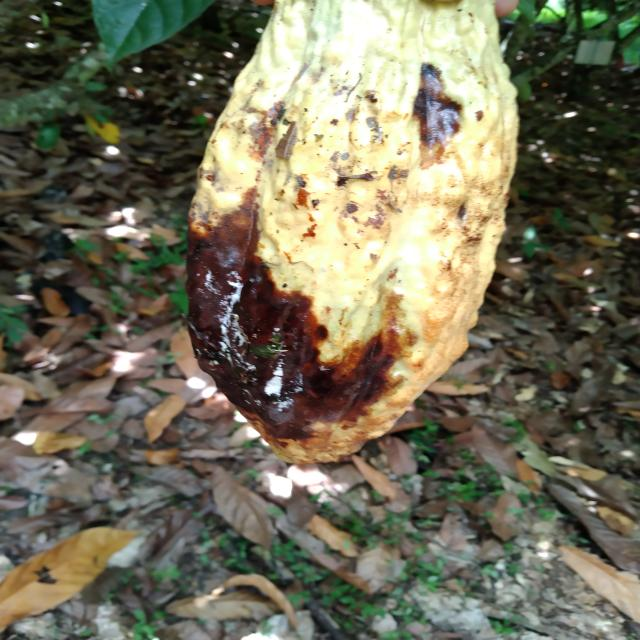Monilia: (189, 0, 515, 463)
